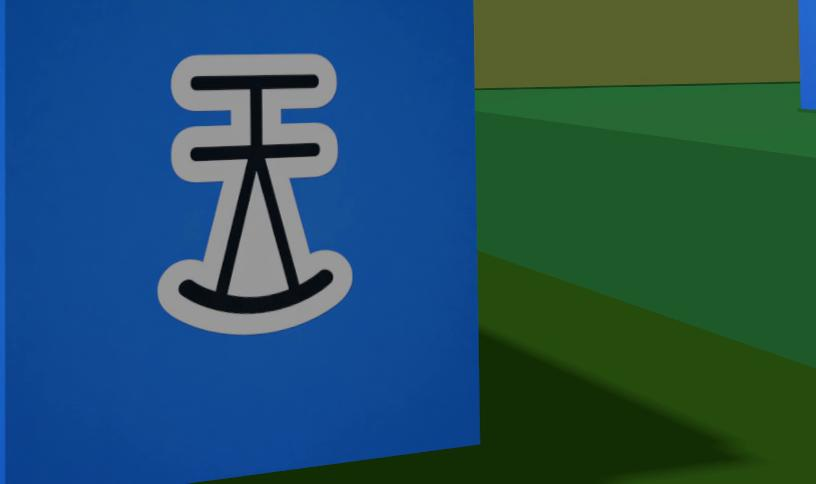KFS_REAL: (0, 0, 479, 483), (159, 54, 348, 334), (798, 0, 815, 109)
